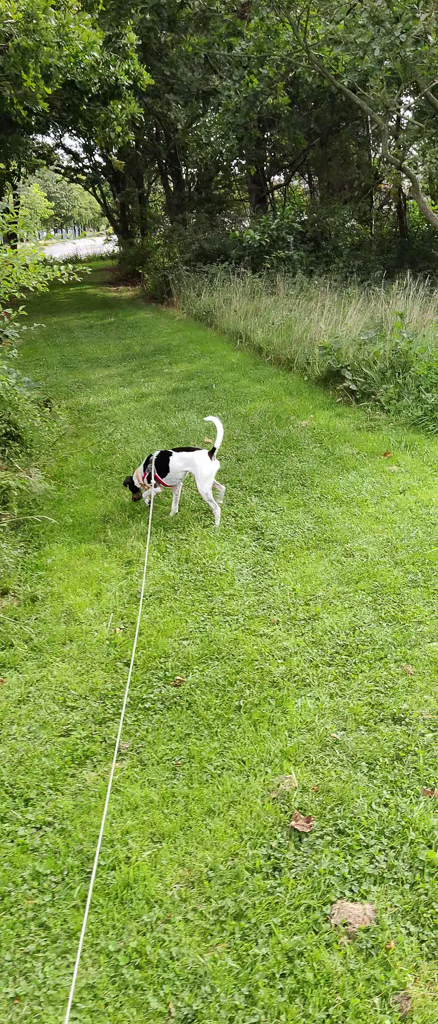Dog: (116, 410, 244, 535)
